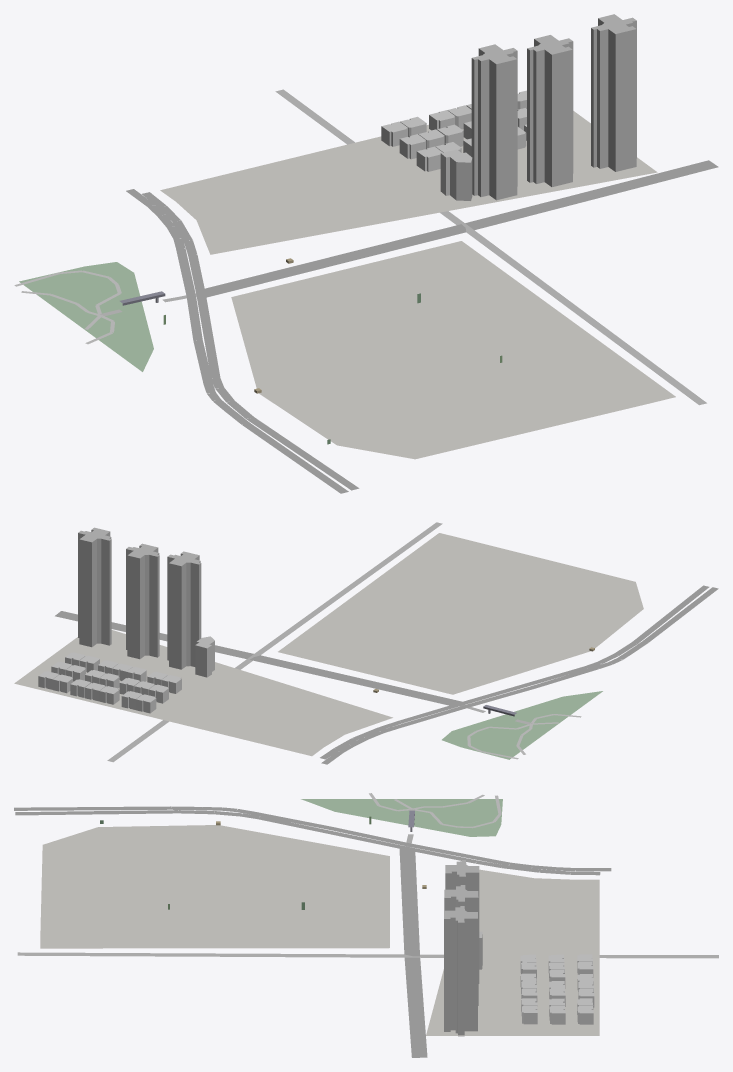
3 renders of one model, top to bottom at view 1: azimuth 30°, elevation 25°; view 2: azimuth 150°, elevation 25°; view 3: azimuth 270°, elevation 25°, orthographic. The views are drawn at different scales.
Bounding box in the file's own units: 556 × 112 × 630.
